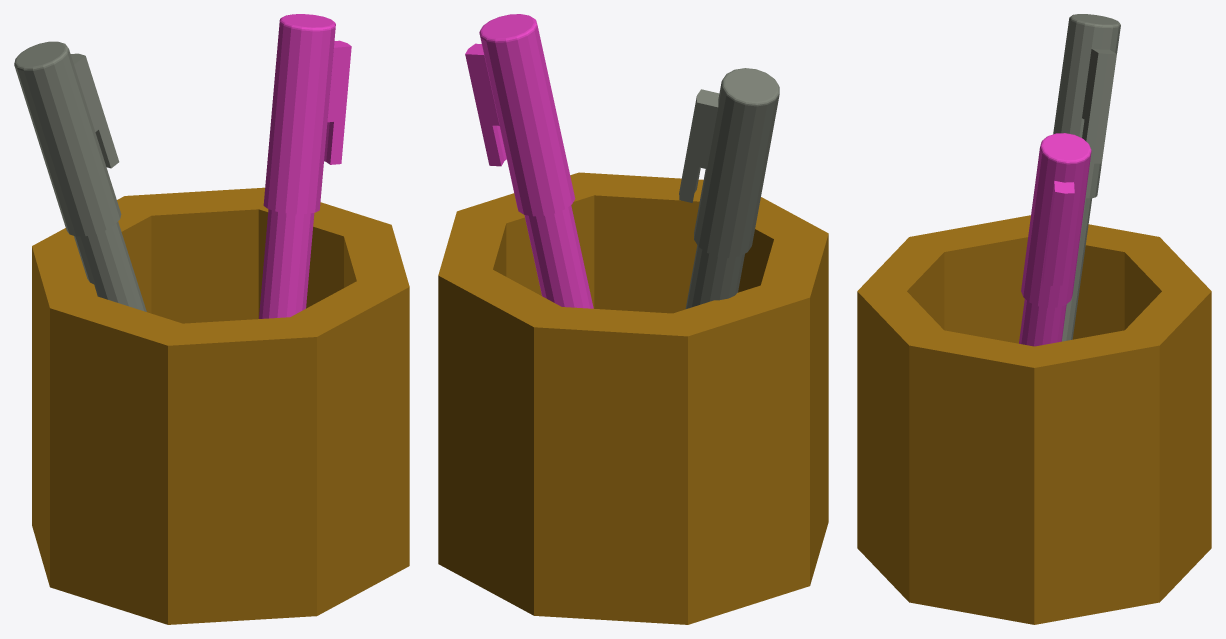
Rendered from pencil_case.fbx.
The picture shows the model from 3 angles, left to right: view 1: azimuth 30°, elevation 25°; view 2: azimuth 150°, elevation 25°; view 3: azimuth 270°, elevation 25°; orthographic projection. The views are drawn at different scales.
Parts seen in each view (by area): view 1: pencil_case, pencil_pink, pencil_gray; view 2: pencil_case, pencil_pink, pencil_gray; view 3: pencil_case, pencil_pink, pencil_gray.
Boxes of the visible parts, x1,y1,x2,y2 form: pencil_case: [32, 187, 409, 624]; pencil_pink: [259, 14, 351, 318]; pencil_gray: [14, 41, 146, 311]; pencil_case: [438, 172, 828, 624]; pencil_pink: [465, 14, 593, 308]; pencil_gray: [679, 68, 779, 308]; pencil_case: [857, 215, 1211, 624]; pencil_pink: [1019, 133, 1091, 346]; pencil_gray: [1053, 14, 1120, 341].
Size of the model in its own units: 12.14 by 17.28 by 11.84.
